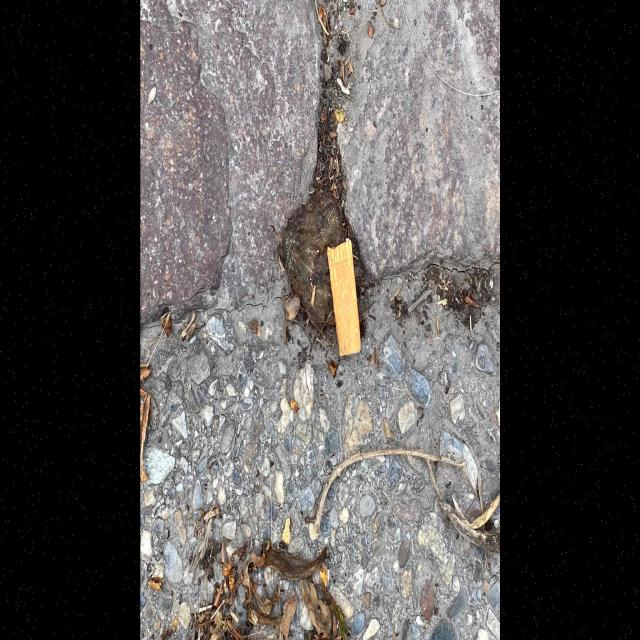other waste: (326, 238, 362, 358)
